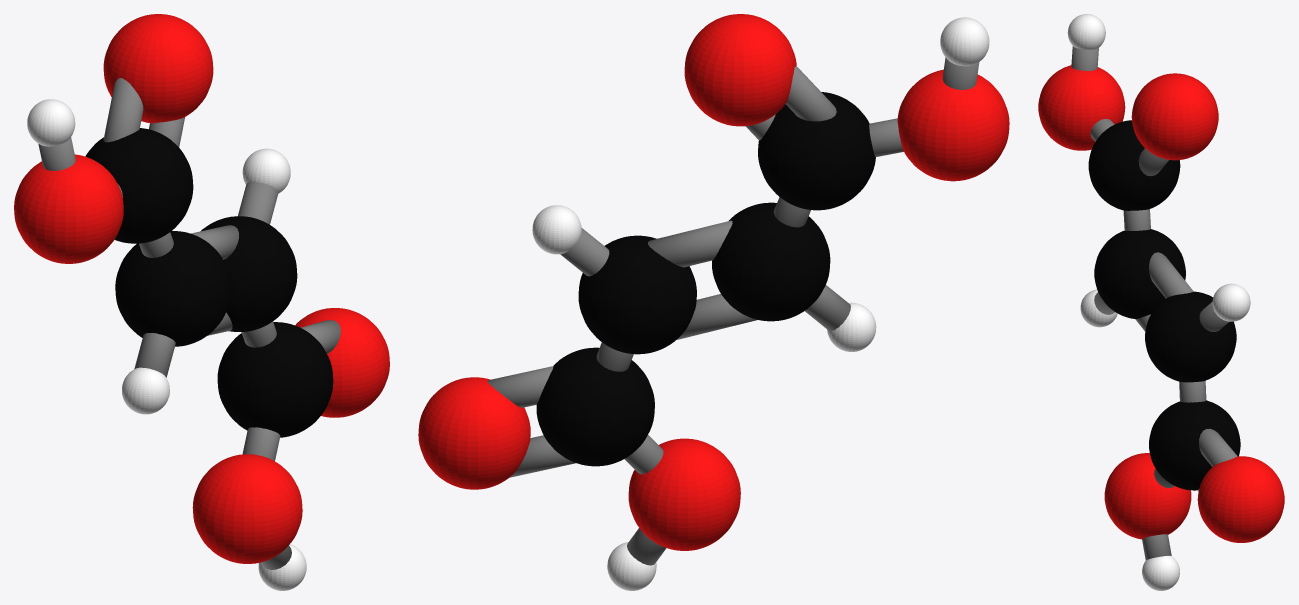
File: ACIDO FUMARICO.obj
3 renders of one model, left to right at view 1: azimuth 30°, elevation 25°; view 2: azimuth 150°, elevation 25°; view 3: azimuth 270°, elevation 25°, orthographic. The views are drawn at different scales.
Parts seen in each view (by area): view 1: Carbon_ball_Sphere.001, Oxygen_ball_Sphere.002, Hydrogen_ball_Sphere, Stick_Cylinder.009_Cylinder.009, Stick_Cylinder.001_Cylinder.001, Stick_Cylinder.010_Cylinder.010, Stick_Cylinder.005_Cylinder.005, Stick_Cylinder.003_Cylinder.003, Stick_Cylinder_Cylinder, Stick_Cylinder.004_Cylinder.004, Stick_Cylinder.006_Cylinder.006, Stick_Cylinder.002_Cylinder.002 (+1 smaller); view 2: Carbon_ball_Sphere.001, Oxygen_ball_Sphere.002, Hydrogen_ball_Sphere, Stick_Cylinder.003_Cylinder.003, Stick_Cylinder.013_Cylinder.013, Stick_Cylinder.009_Cylinder.009, Stick_Cylinder.004_Cylinder.004, Stick_Cylinder.010_Cylinder.010, Stick_Cylinder.012_Cylinder.012, Stick_Cylinder.001_Cylinder.001, Stick_Cylinder.008_Cylinder.008, Stick_Cylinder.005_Cylinder.005 (+2 smaller); view 3: Oxygen_ball_Sphere.002, Carbon_ball_Sphere.001, Hydrogen_ball_Sphere, Stick_Cylinder.003_Cylinder.003, Stick_Cylinder.004_Cylinder.004, Stick_Cylinder.007_Cylinder.007, Stick_Cylinder_Cylinder, Stick_Cylinder.006_Cylinder.006, Stick_Cylinder.002_Cylinder.002, Stick_Cylinder.011_Cylinder.011, Stick_Cylinder.010_Cylinder.010.
Boxes of the visible parts, left/top/right/bottom form: Carbon_ball_Sphere.001: left=85, top=128, right=333, bottom=437; Oxygen_ball_Sphere.002: left=14, top=14, right=389, bottom=563; Hydrogen_ball_Sphere: left=27, top=99, right=306, bottom=590; Stick_Cylinder.009_Cylinder.009: left=103, top=78, right=143, bottom=142; Stick_Cylinder.001_Cylinder.001: left=134, top=333, right=175, bottom=377; Stick_Cylinder.010_Cylinder.010: left=238, top=181, right=278, bottom=224; Stick_Cylinder.005_Cylinder.005: left=242, top=427, right=280, bottom=461; Stick_Cylinder.003_Cylinder.003: left=191, top=225, right=238, bottom=259; Stick_Cylinder_Cylinder: left=38, top=137, right=75, bottom=170; Stick_Cylinder.004_Cylinder.004: left=301, top=320, right=340, bottom=353; Stick_Cylinder.006_Cylinder.006: left=241, top=321, right=276, bottom=347; Stick_Cylinder.002_Cylinder.002: left=139, top=232, right=173, bottom=257; Carbon_ball_Sphere.001: left=536, top=92, right=875, bottom=466; Oxygen_ball_Sphere.002: left=418, top=14, right=1009, bottom=550; Hydrogen_ball_Sphere: left=532, top=17, right=989, bottom=590; Stick_Cylinder.003_Cylinder.003: left=648, top=220, right=732, bottom=267; Stick_Cylinder.013_Cylinder.013: left=676, top=294, right=757, bottom=339; Stick_Cylinder.009_Cylinder.009: left=786, top=66, right=836, bottom=121; Stick_Cylinder.004_Cylinder.004: left=487, top=366, right=553, bottom=407; Stick_Cylinder.010_Cylinder.010: left=560, top=228, right=609, bottom=276; Stick_Cylinder.012_Cylinder.012: left=510, top=435, right=576, bottom=477; Stick_Cylinder.001_Cylinder.001: left=805, top=285, right=850, bottom=330; Stick_Cylinder.008_Cylinder.008: left=869, top=118, right=903, bottom=156; Stick_Cylinder.005_Cylinder.005: left=624, top=435, right=663, bottom=474; Oxygen_ball_Sphere.002: left=1038, top=65, right=1284, bottom=542; Carbon_ball_Sphere.001: left=1088, top=120, right=1240, bottom=490; Hydrogen_ball_Sphere: left=1067, top=14, right=1250, bottom=590; Stick_Cylinder.003_Cylinder.003: left=1149, top=252, right=1193, bottom=298; Stick_Cylinder.004_Cylinder.004: left=1199, top=428, right=1237, bottom=466; Stick_Cylinder.007_Cylinder.007: left=1142, top=534, right=1171, bottom=560; Stick_Cylinder_Cylinder: left=1071, top=46, right=1098, bottom=70; Stick_Cylinder.006_Cylinder.006: left=1179, top=380, right=1206, bottom=402; Stick_Cylinder.002_Cylinder.002: left=1123, top=209, right=1150, bottom=230; Stick_Cylinder.011_Cylinder.011: left=1138, top=148, right=1168, bottom=176; Stick_Cylinder.010_Cylinder.010: left=1199, top=302, right=1229, bottom=331.
Bounding box in the file's own units: 6.38 × 7.79 × 3.72.
